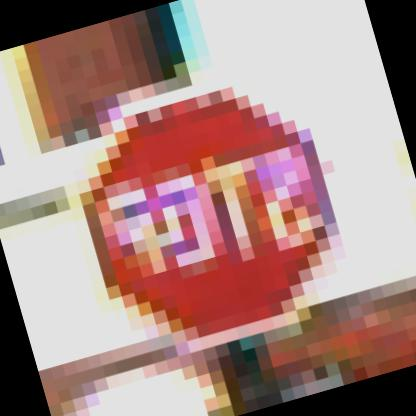stop: (34, 62, 384, 387)
